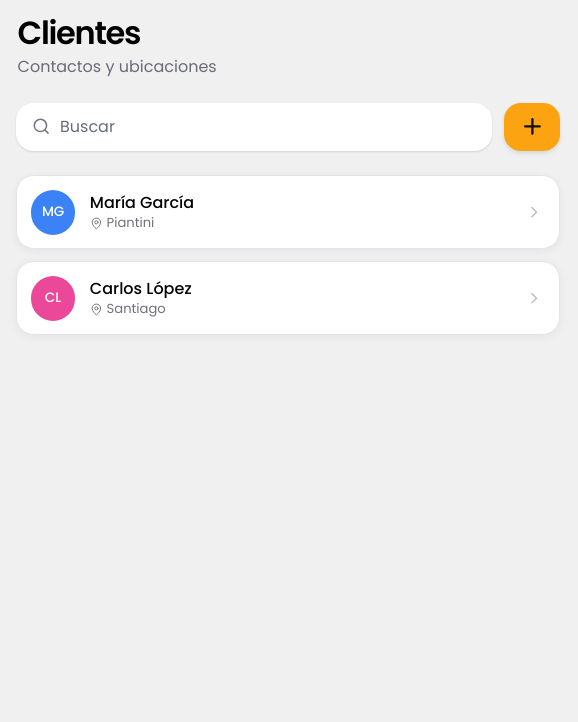
Test: ClientsPage › opens new client form from page action button
Click the button named "Nuevo cliente": click(532, 126) [504, 102, 560, 150]
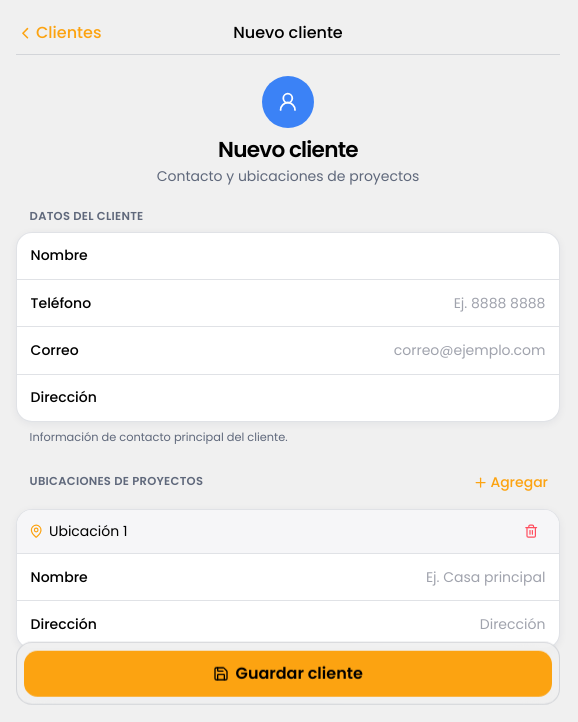
Now the heading "Nuevo cliente" is shown, box [218, 138, 358, 161]
